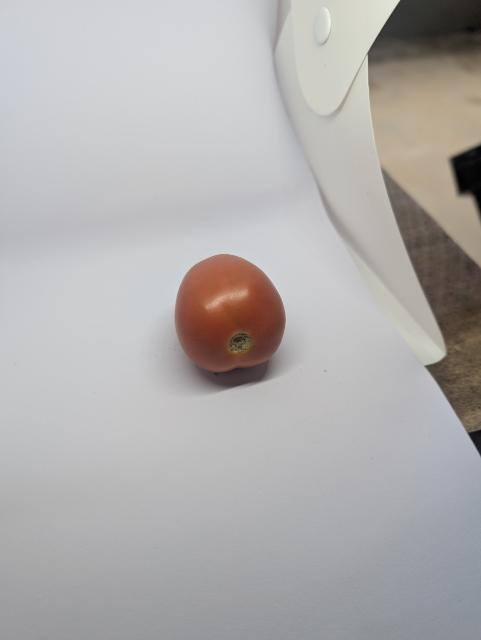red: (167, 246, 289, 392)
